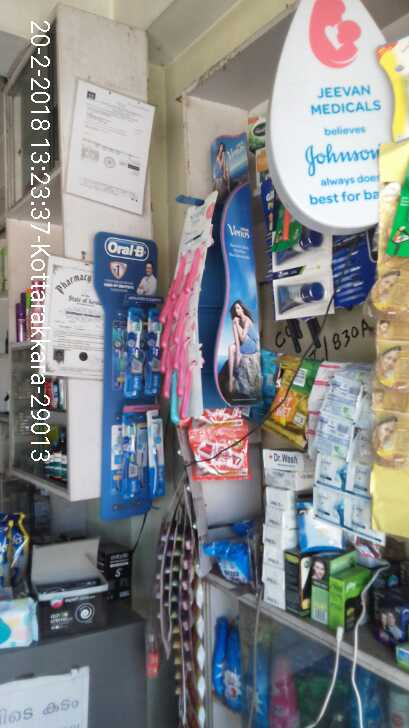oralb: (117, 412, 141, 508), (142, 407, 165, 497), (146, 307, 165, 399), (127, 309, 146, 395)
